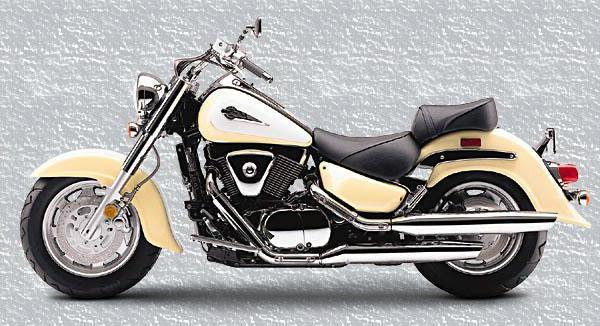motorcycle: (11, 15, 595, 314)
